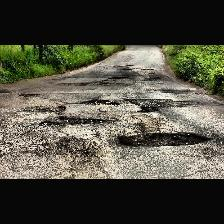pothole: (118, 132, 210, 148), (39, 116, 106, 128), (22, 106, 66, 114), (80, 100, 118, 106), (136, 106, 158, 114), (17, 93, 39, 97), (108, 76, 130, 79), (124, 68, 154, 70), (0, 90, 10, 94)
